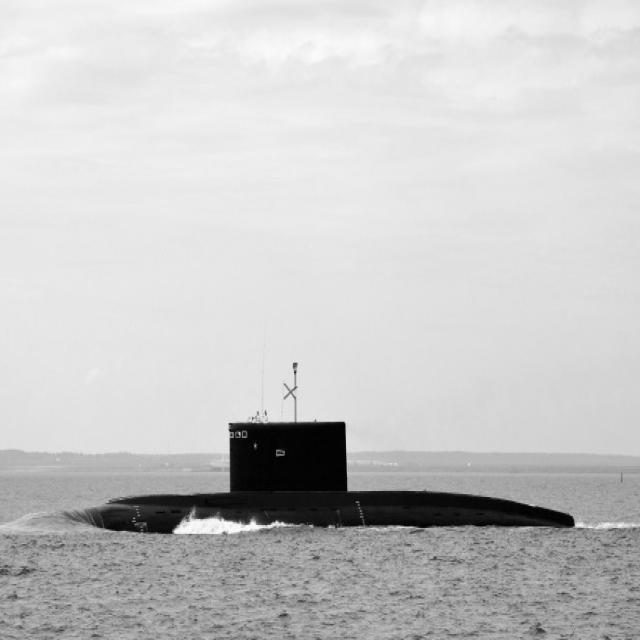submarine: (35, 411, 578, 535)
